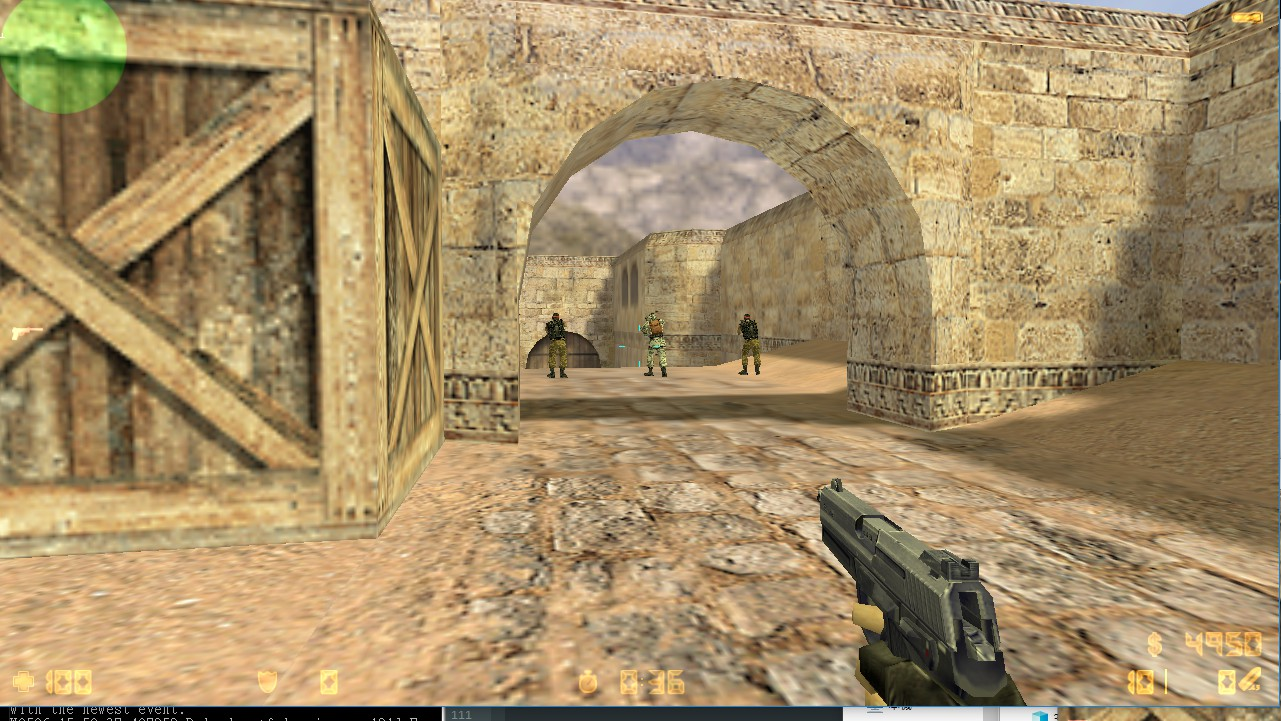person: (539, 309, 574, 382), (733, 307, 767, 381), (638, 313, 673, 377)
